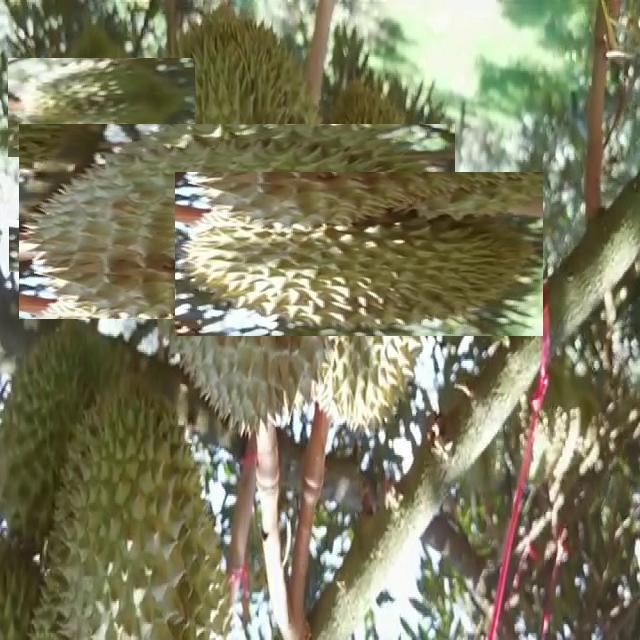durian: (79, 64, 395, 380), (226, 120, 493, 388), (28, 364, 242, 640), (2, 306, 140, 574), (30, 36, 173, 179), (17, 212, 84, 280)
